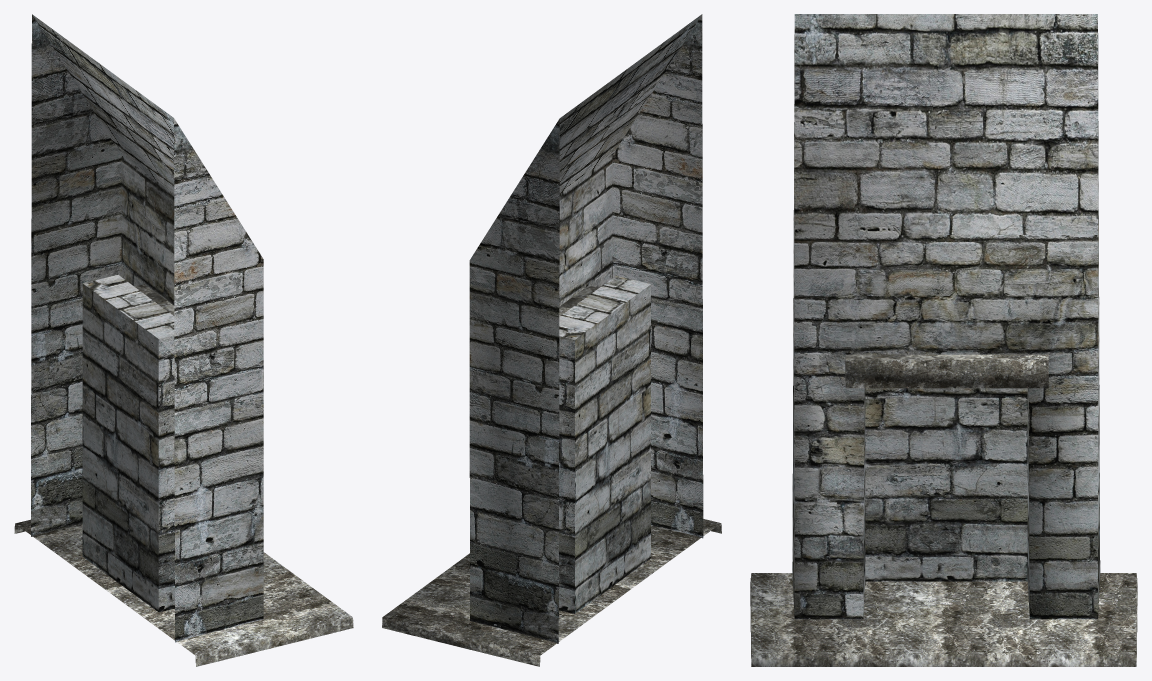
The model's file is cabinInteriorFireplace_01_LOD1.FBX.
3 views of the same model, side by side, from view 1: azimuth 30°, elevation 25°; view 2: azimuth 150°, elevation 25°; view 3: azimuth 270°, elevation 25° (orthographic). The views are drawn at different scales.
Parts seen in each view (by area): view 1: cabinInteriorFireplace_01_LOD1; view 2: cabinInteriorFireplace_01_LOD1; view 3: cabinInteriorFireplace_01_LOD1.
Part boxes in pixels (x1,y1,x2,y2): cabinInteriorFireplace_01_LOD1: (14,14,353,666); cabinInteriorFireplace_01_LOD1: (382,14,721,666); cabinInteriorFireplace_01_LOD1: (750,14,1137,666).
Size of the model in its own units: 5.55 by 17.79 by 10.96.
2 materials, 2 textured.
